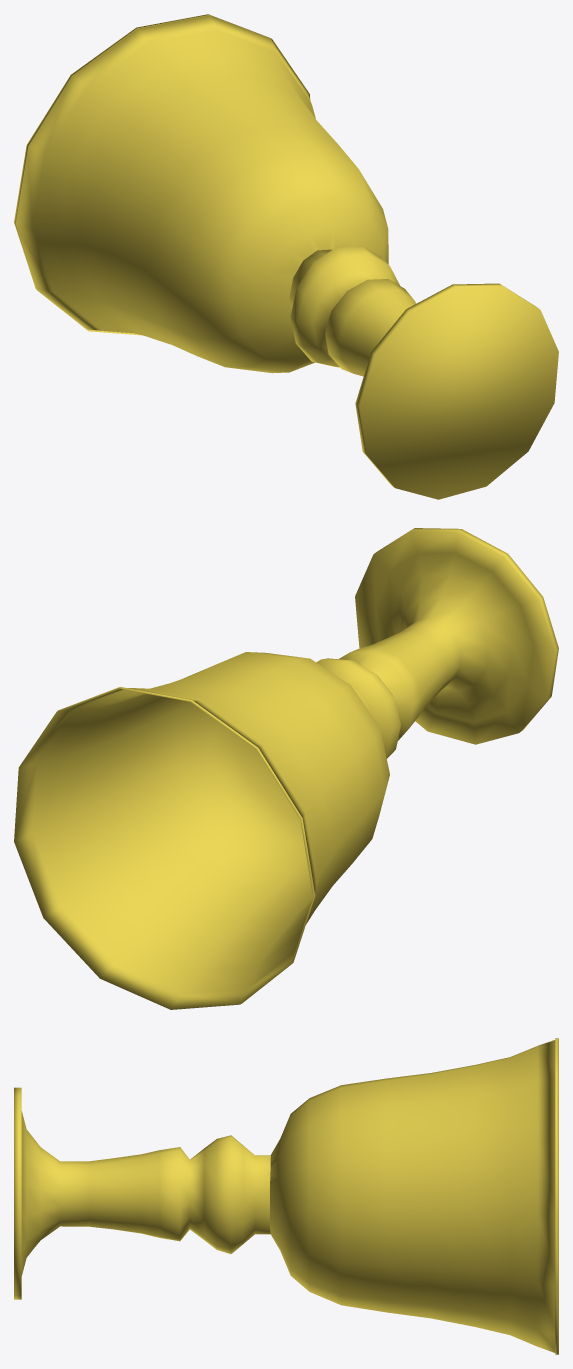
The model's file is cup.fbx.
3 views of the same model, one above another, from view 1: azimuth 30°, elevation 25°; view 2: azimuth 150°, elevation 25°; view 3: azimuth 270°, elevation 25° (orthographic). The views are drawn at different scales.
Parts seen in each view (by area): view 1: BézierCurve; view 2: BézierCurve; view 3: BézierCurve.
Boxes of the visible parts, x1,y1,x2,y2 form: BézierCurve: (14,14,558,499); BézierCurve: (14,528,558,1009); BézierCurve: (14,1038,558,1354).
Bounding box in the file's own units: 242 × 242 × 415.
